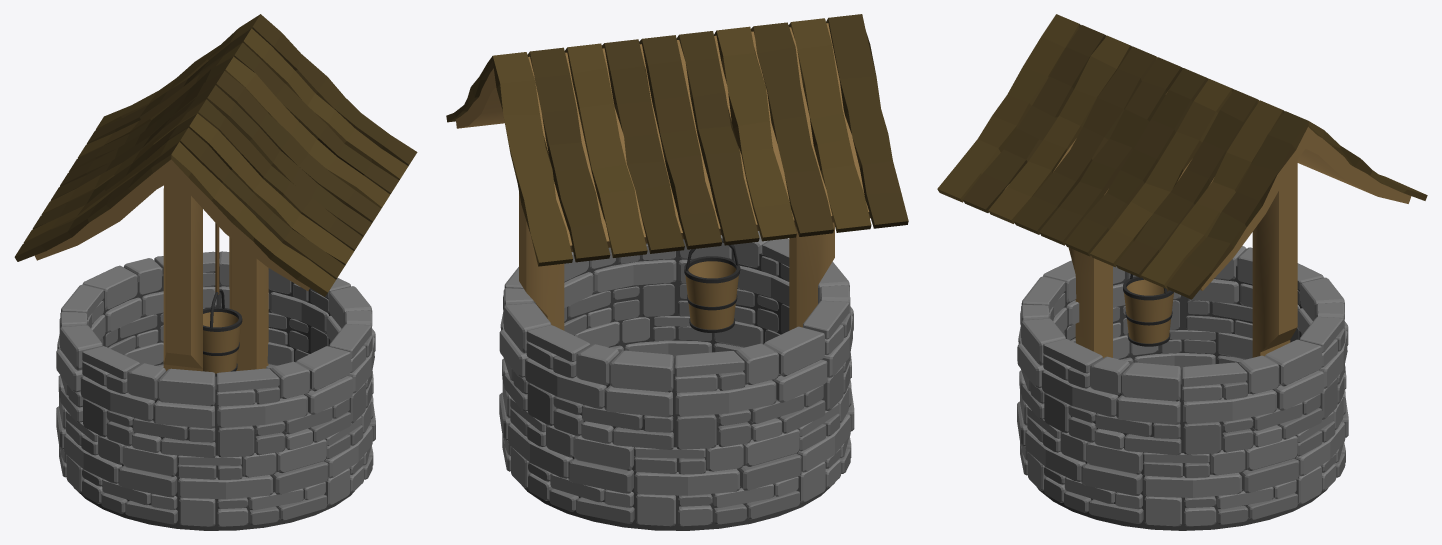
Rendered from WaterWell.fbx.
3 renders of one model, left to right at view 1: azimuth 30°, elevation 25°; view 2: azimuth 150°, elevation 25°; view 3: azimuth 270°, elevation 25°, orthographic. The views are drawn at different scales.
Visible parts, largest first — view 1: Well; view 2: Well; view 3: Well.
Part boxes in pixels (x1=…): Well: x1=14, y1=14, x2=417, y2=530; Well: x1=446, y1=14, x2=908, y2=530; Well: x1=937, y1=14, x2=1427, y2=530.
Bounding box in the file's own units: 315 × 282 × 315.
